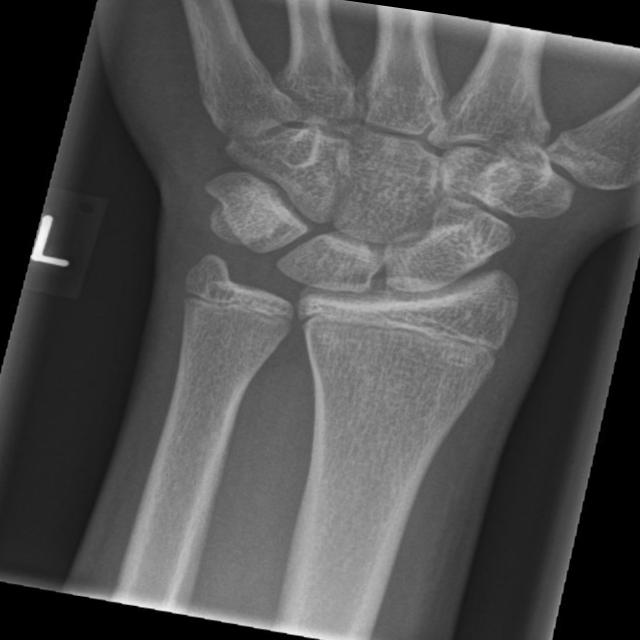fracture: (280, 291, 522, 373), (168, 272, 303, 340)
